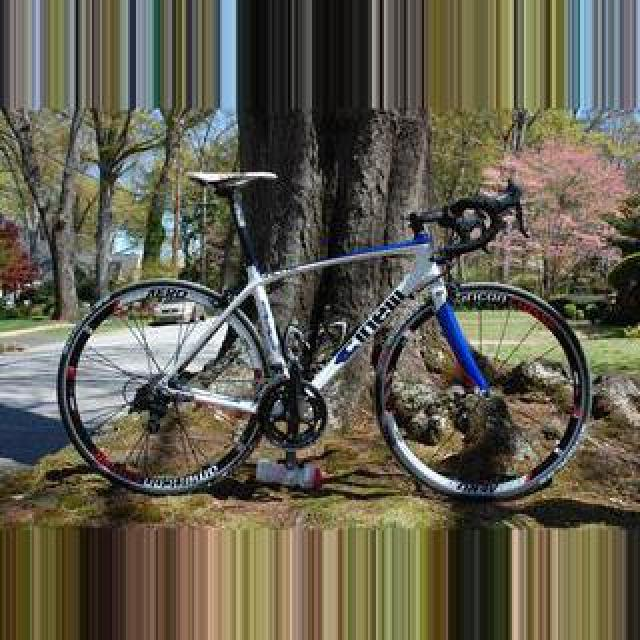Person: (49, 145, 587, 507)
